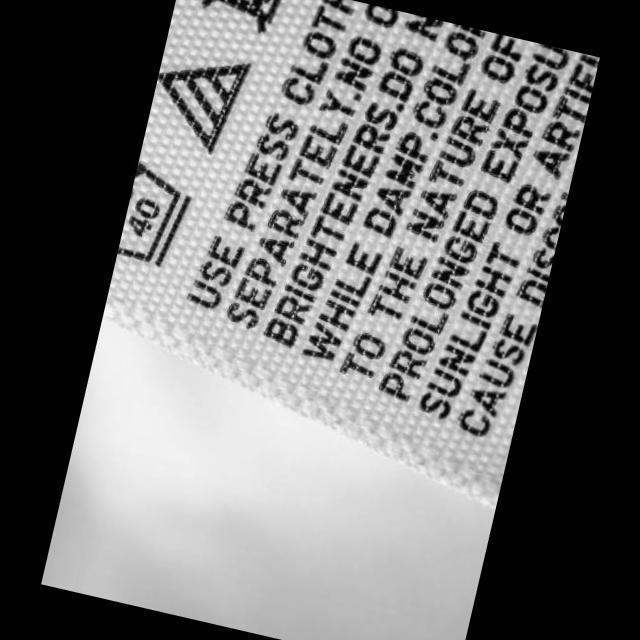40C: (115, 156, 202, 276)
DN_tumble_dry: (183, 0, 294, 47)
non_chlorine_bleach: (144, 37, 256, 160)
